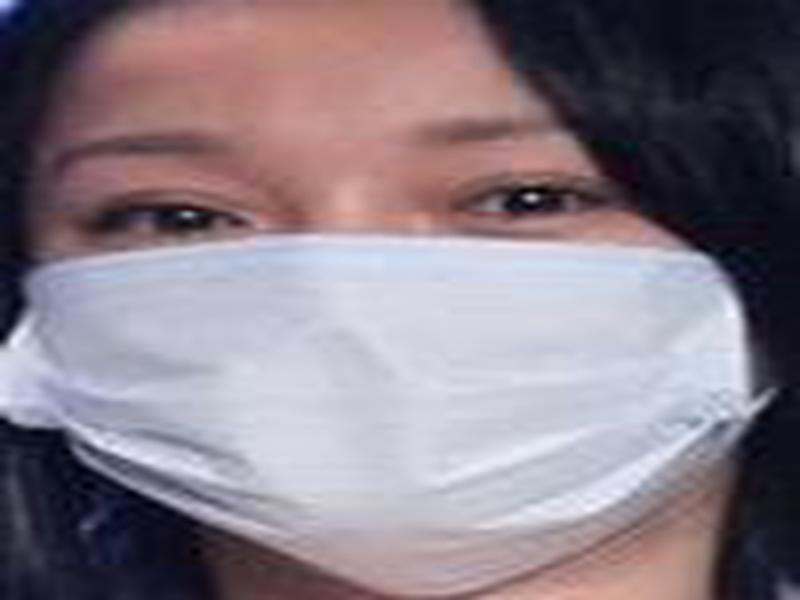with_mask: (1, 1, 787, 597)
